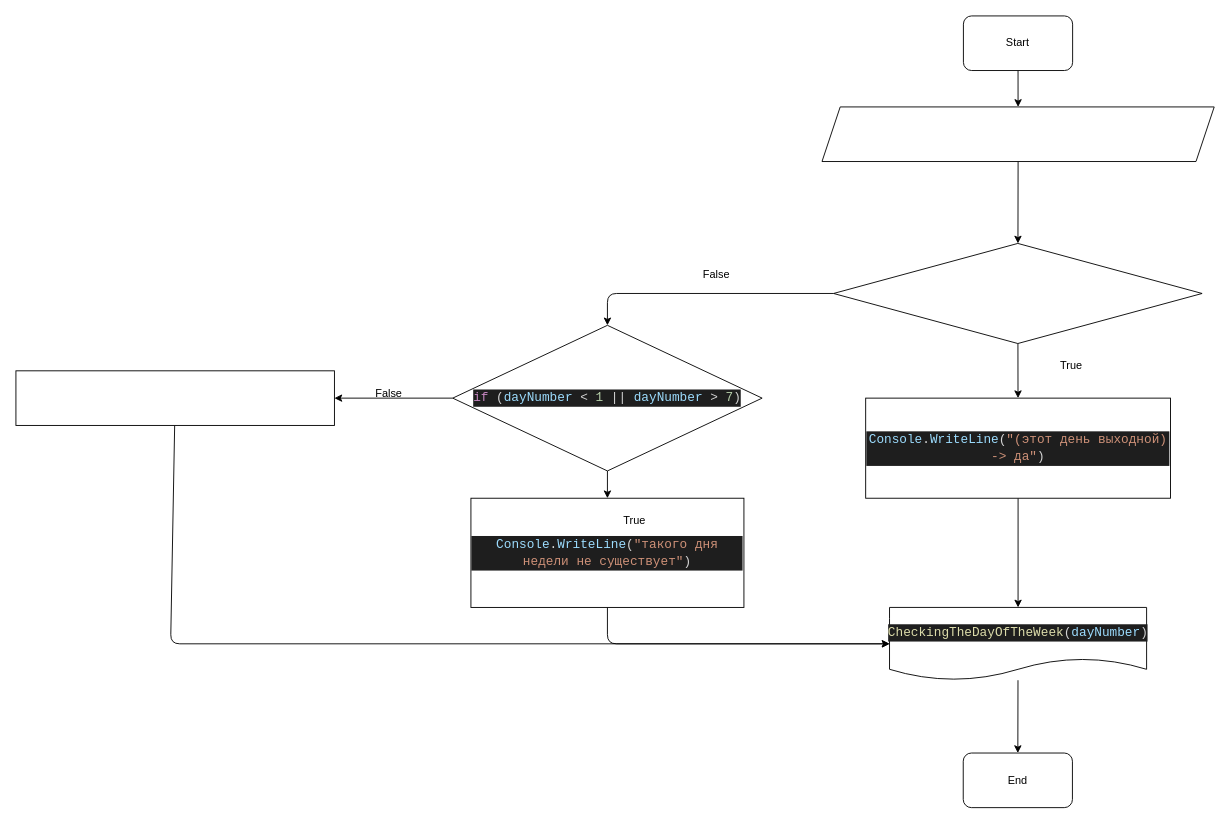
Image size: 1230x824. Some labels were removed from this diagram. The centre of each missing label's shape, as x and y in pixels:
Console . WriteLine ( "(этот день не выходной) -> нет" ): [174,397]
if ( dayNumber == 6 || dayNumber == 7 ): [1017,293]
int dayNumber = Convert . ToInt32 ( Console . ReadLine ()): [1017,134]
